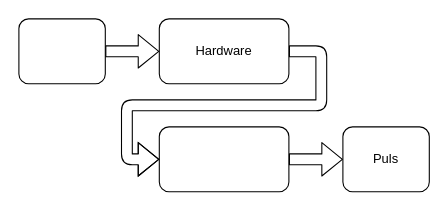
This 448x211 diagram has some shape labels left out. The box of each missing label's shape, as (x1, y1, x2, y2) in pixels:
Finger: (18, 18, 105, 84)
Software: (158, 126, 289, 192)
